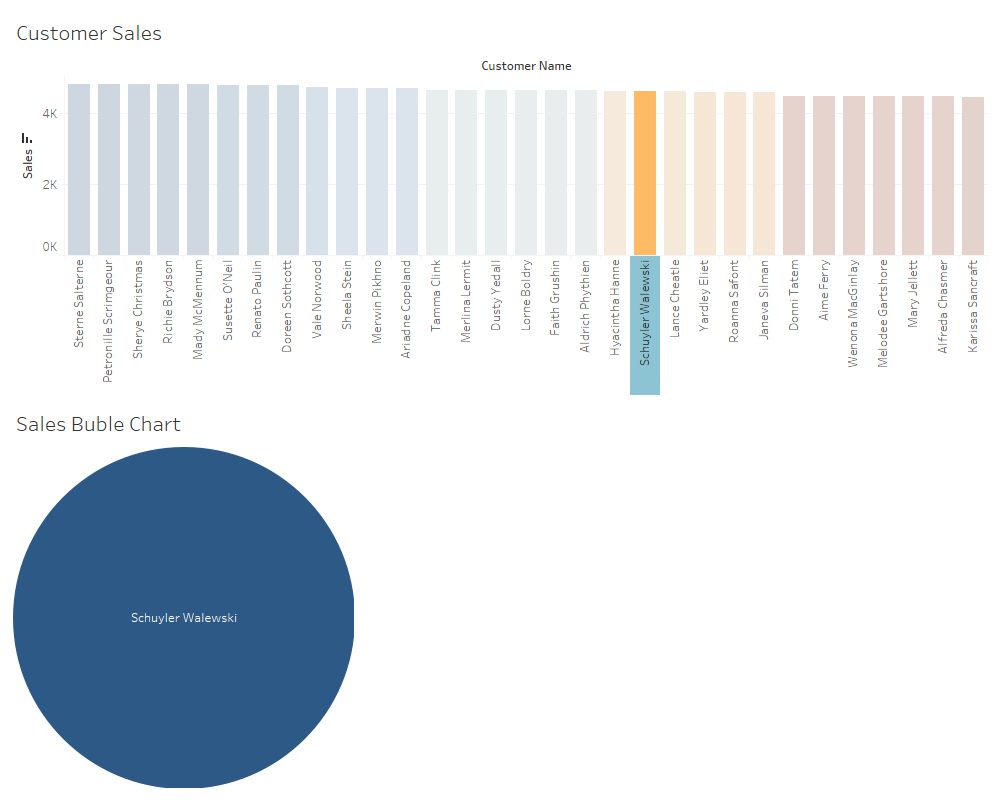

The page's visual inventory and layout, read from the dashboard file:
{"tool":"tableau","page":{"name":"Interactive","canvas":[1000,800],"ordinal":0},"visuals":[{"type":"worksheet","title":"Customer Sales","mark":"Automatic","rows":["Sales"],"cols":["Customer Name"],"box":[8,8,984,391.2]},{"type":"worksheet","title":"Sales Buble Chart","mark":"Circle","box":[8,399.2,984,392.8]}]}

Visuals, with their boxes in screenshot pixels (x1, y1, x2, y2), scaled from the page's 1000x800 canvas onto the 1000x800 screenshot:
"Customer Sales" worksheet: select_region(8, 8, 992, 399)
"Sales Buble Chart" worksheet (Circle marks): select_region(8, 399, 992, 792)
